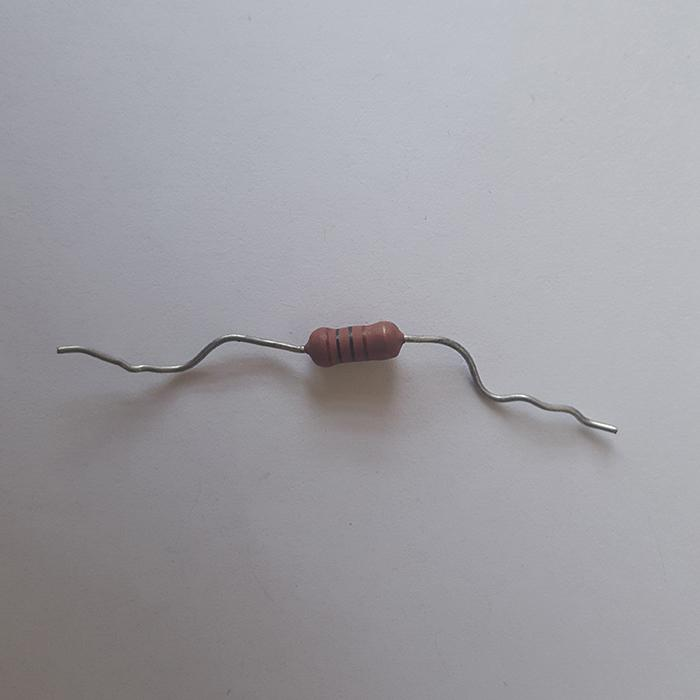resistor: (304, 321, 405, 366)
